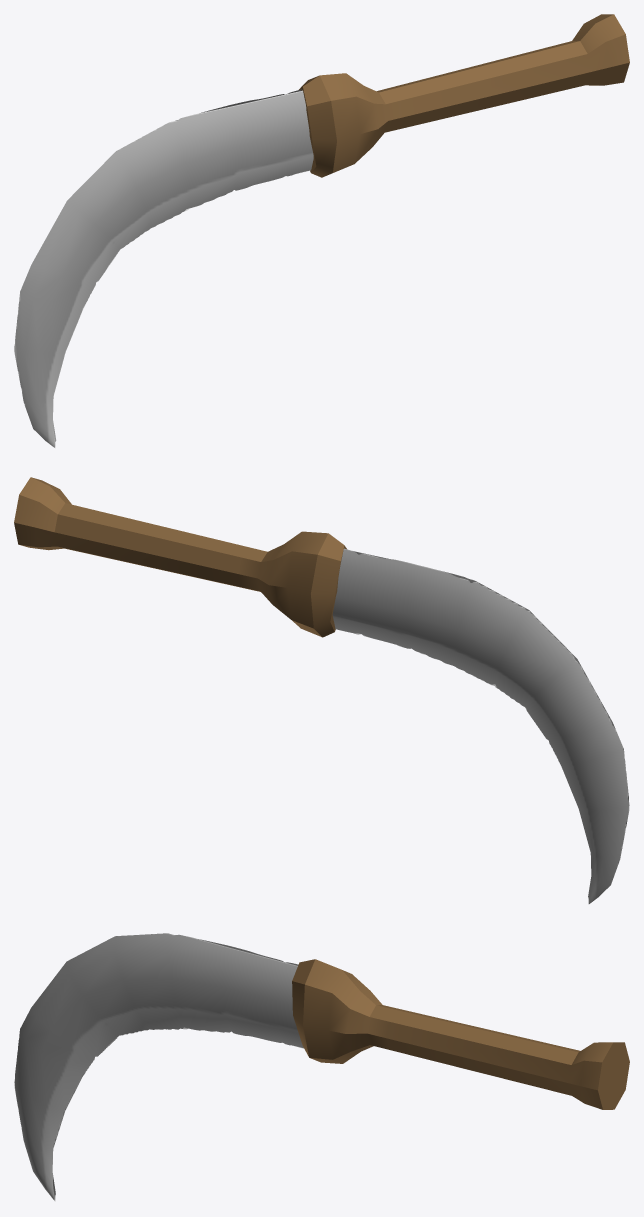
File: Left.Forearm.fbx
3 views of the same model, one above another, from view 1: azimuth 30°, elevation 25°; view 2: azimuth 150°, elevation 25°; view 3: azimuth 330°, elevation 25° (orthographic).
Visible parts, largest first — view 1: Left.Forearm.Object; view 2: Left.Forearm.Object; view 3: Left.Forearm.Object.
Boxes of the visible parts, <box> form: Left.Forearm.Object: <box>14,14,629,448</box>; Left.Forearm.Object: <box>14,477,629,903</box>; Left.Forearm.Object: <box>14,933,629,1201</box>.
Bounding box in the file's own units: 1.57 × 0.7717 × 0.1608.
